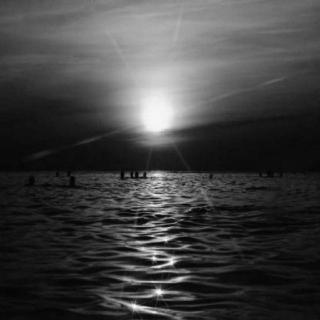other: (132, 90, 182, 142)
